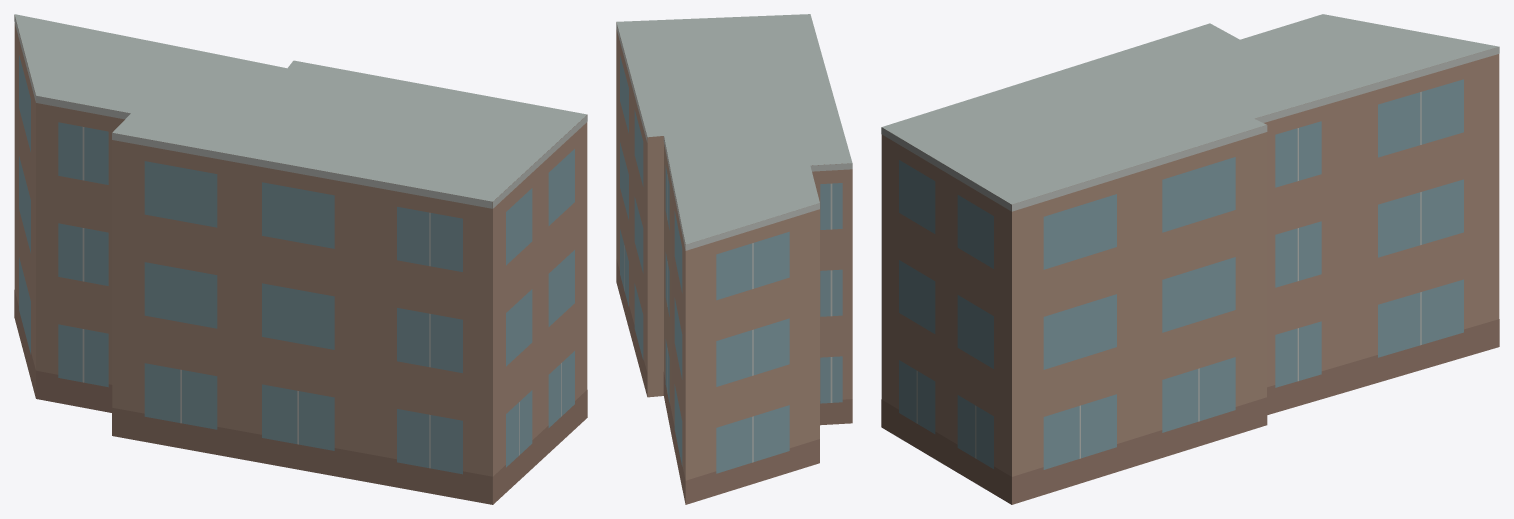
The model's file is survey-upis-32918804.glb.
3 views of the same model, side by side, from view 1: azimuth 30°, elevation 25°; view 2: azimuth 150°, elevation 25°; view 3: azimuth 270°, elevation 25° (orthographic). The views are drawn at different scales.
Visible parts, largest first — view 1: survey-upis-32918804.tmp; view 2: survey-upis-32918804.tmp; view 3: survey-upis-32918804.tmp.
Part boxes in pixels (x1,y1,x2,y2): survey-upis-32918804.tmp: [14, 14, 587, 504]; survey-upis-32918804.tmp: [616, 14, 852, 504]; survey-upis-32918804.tmp: [881, 14, 1499, 504].
Bounding box in the file's own units: 14.03 × 10.3 × 19.22.
